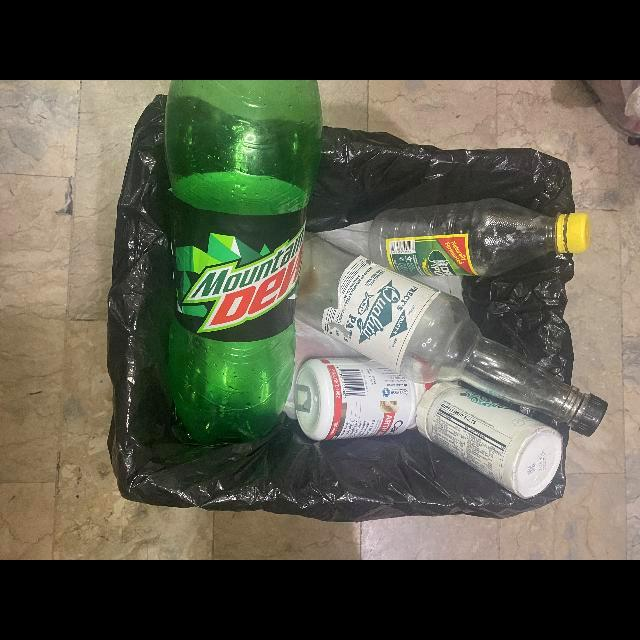glass_bottle: (295, 232, 609, 437)
plastic_bottle: (164, 80, 322, 443), (368, 198, 591, 277)
plastic_container: (416, 382, 563, 500), (294, 358, 436, 441)
